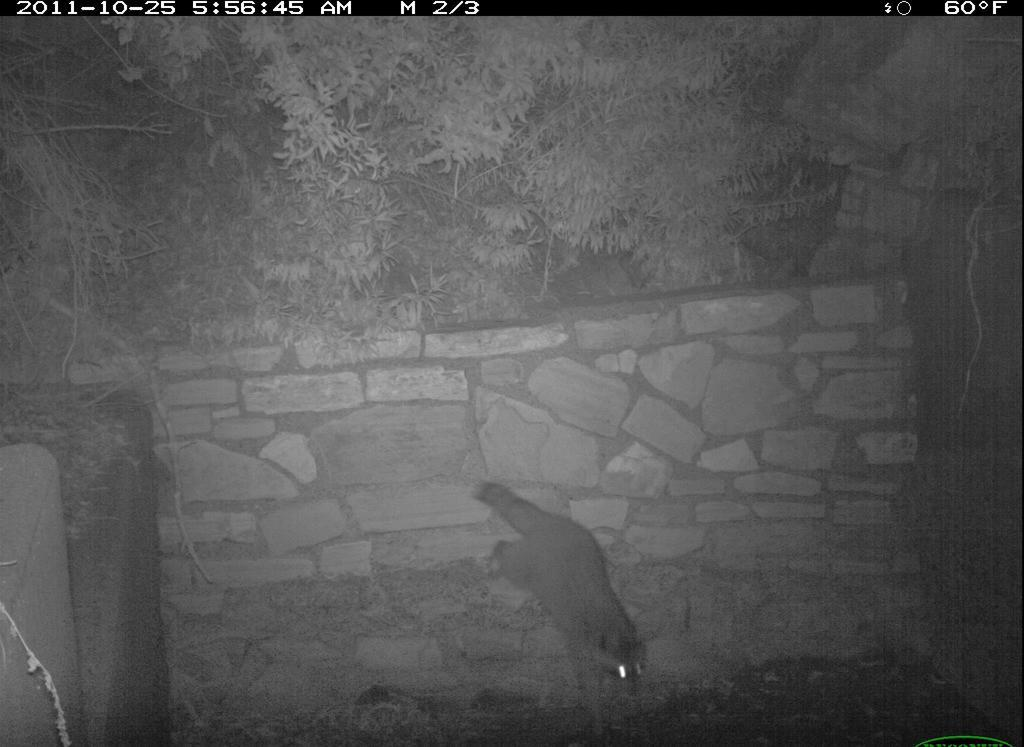raccoon: (469, 478, 666, 734)
